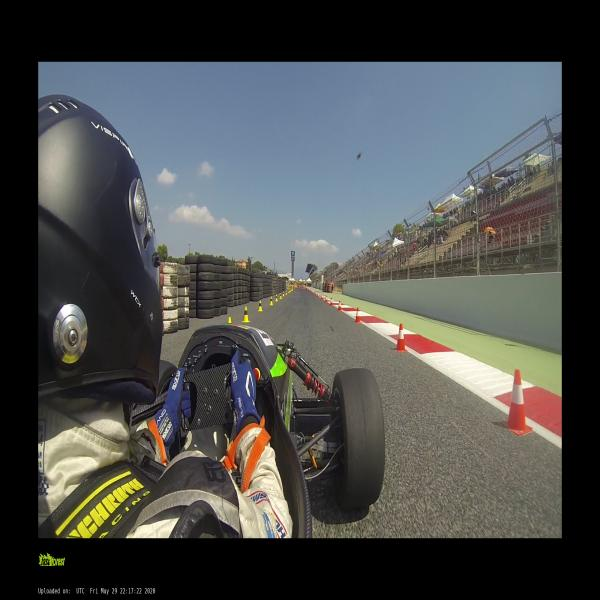orange_cone: (501, 369, 533, 435), (394, 324, 406, 352), (354, 308, 361, 323), (337, 301, 342, 311), (330, 299, 333, 306), (325, 297, 328, 303), (321, 295, 323, 300), (315, 293, 317, 296), (318, 294, 319, 298)
yellow_cone: (242, 306, 250, 322), (258, 300, 262, 311), (269, 296, 273, 306), (274, 294, 278, 301), (228, 317, 232, 323), (279, 293, 282, 298), (282, 291, 284, 297), (285, 290, 287, 295), (288, 289, 290, 293)
